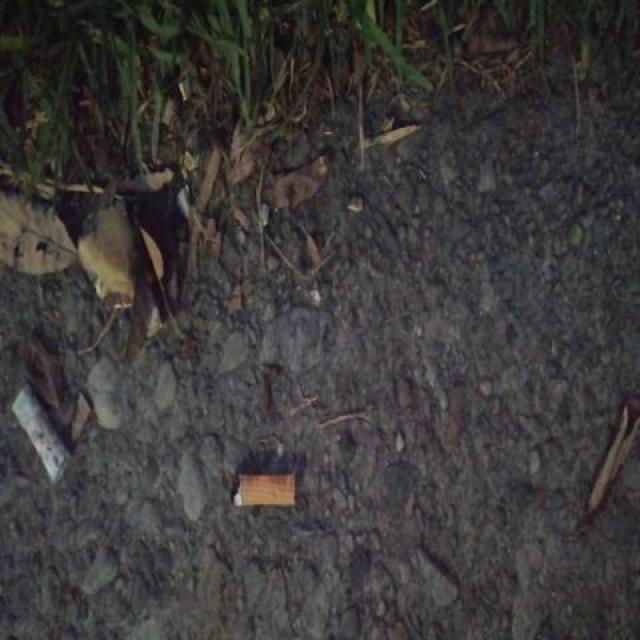non-organic waste: (10, 378, 77, 487), (228, 467, 300, 512)
